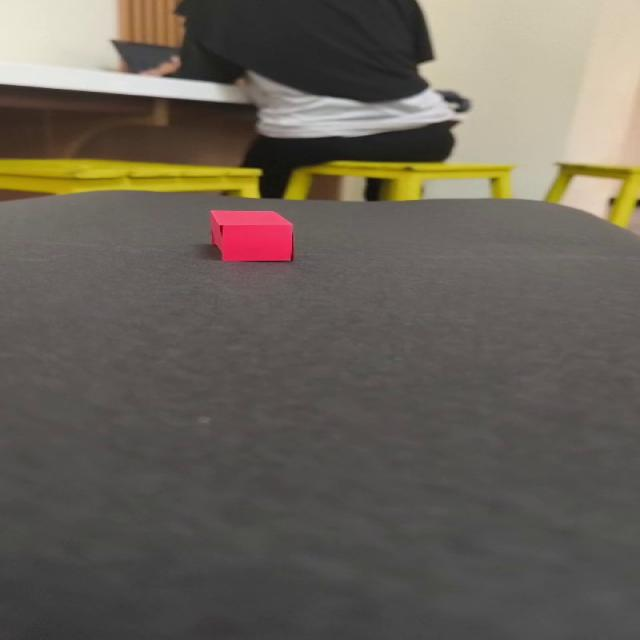red block: (208, 209, 293, 261)
